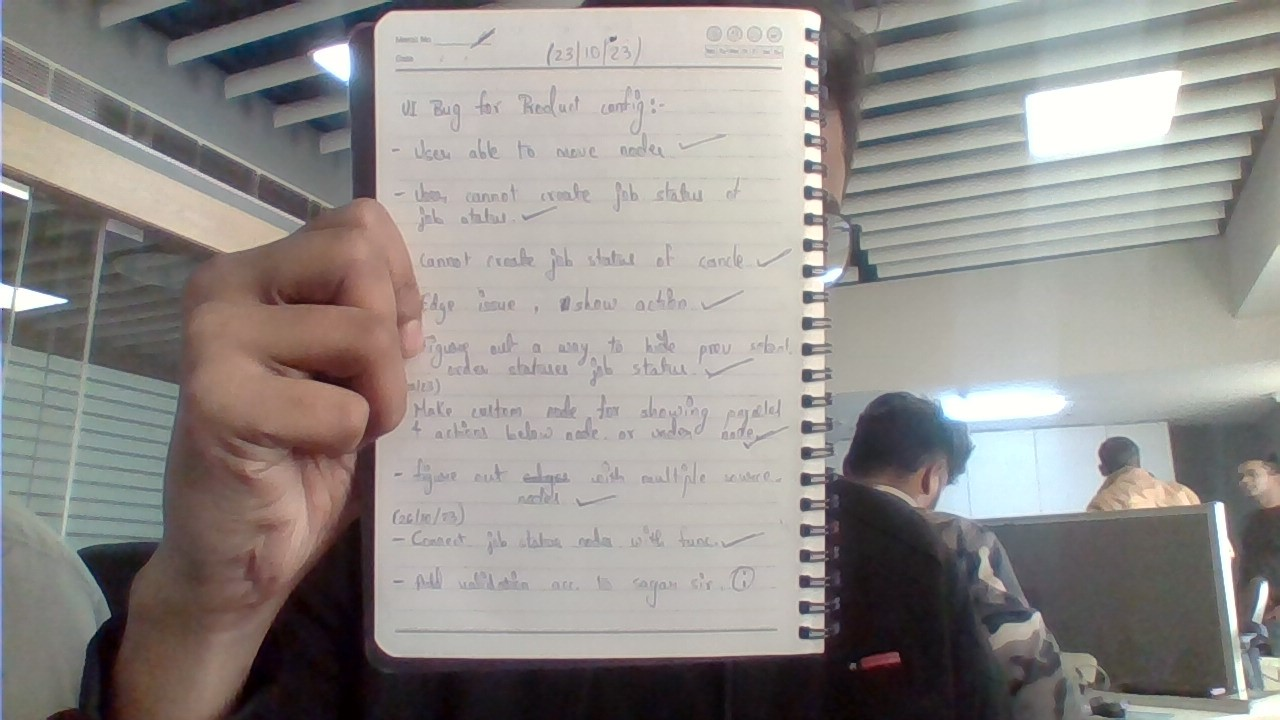notebook: (353, 12, 840, 659)
